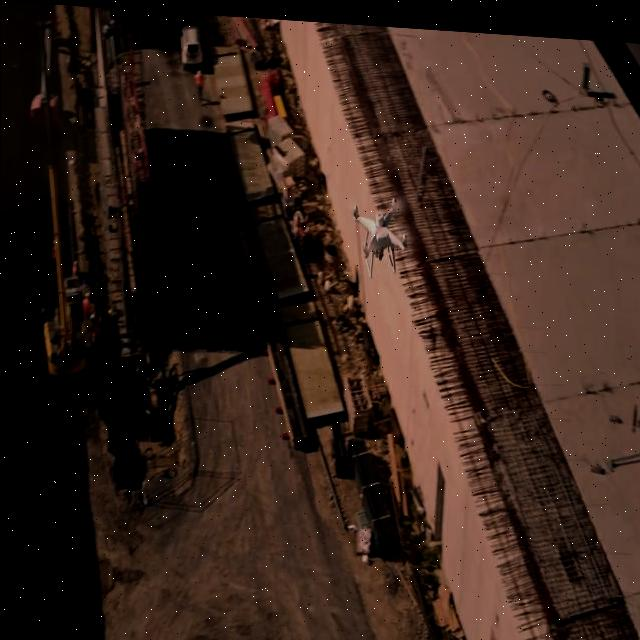drone: (349, 183, 411, 273)
